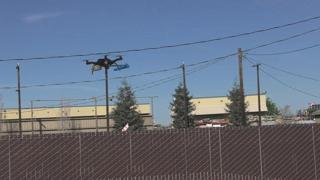UAV: (85, 54, 123, 76)
